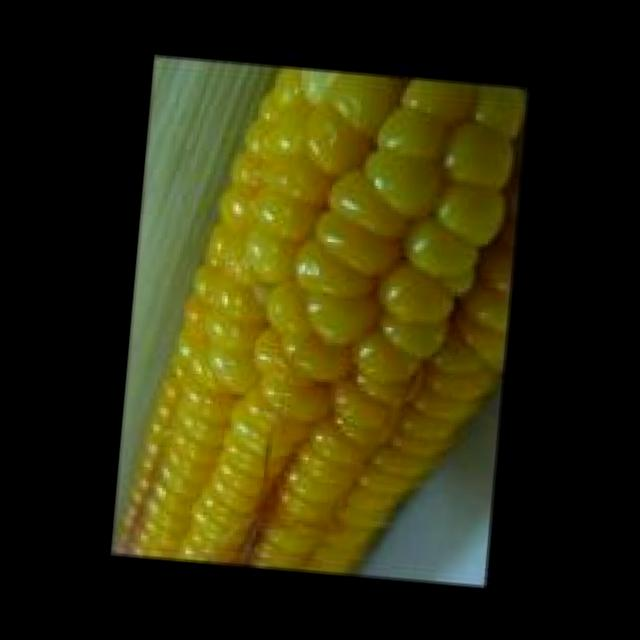corn: (114, 69, 533, 573)
